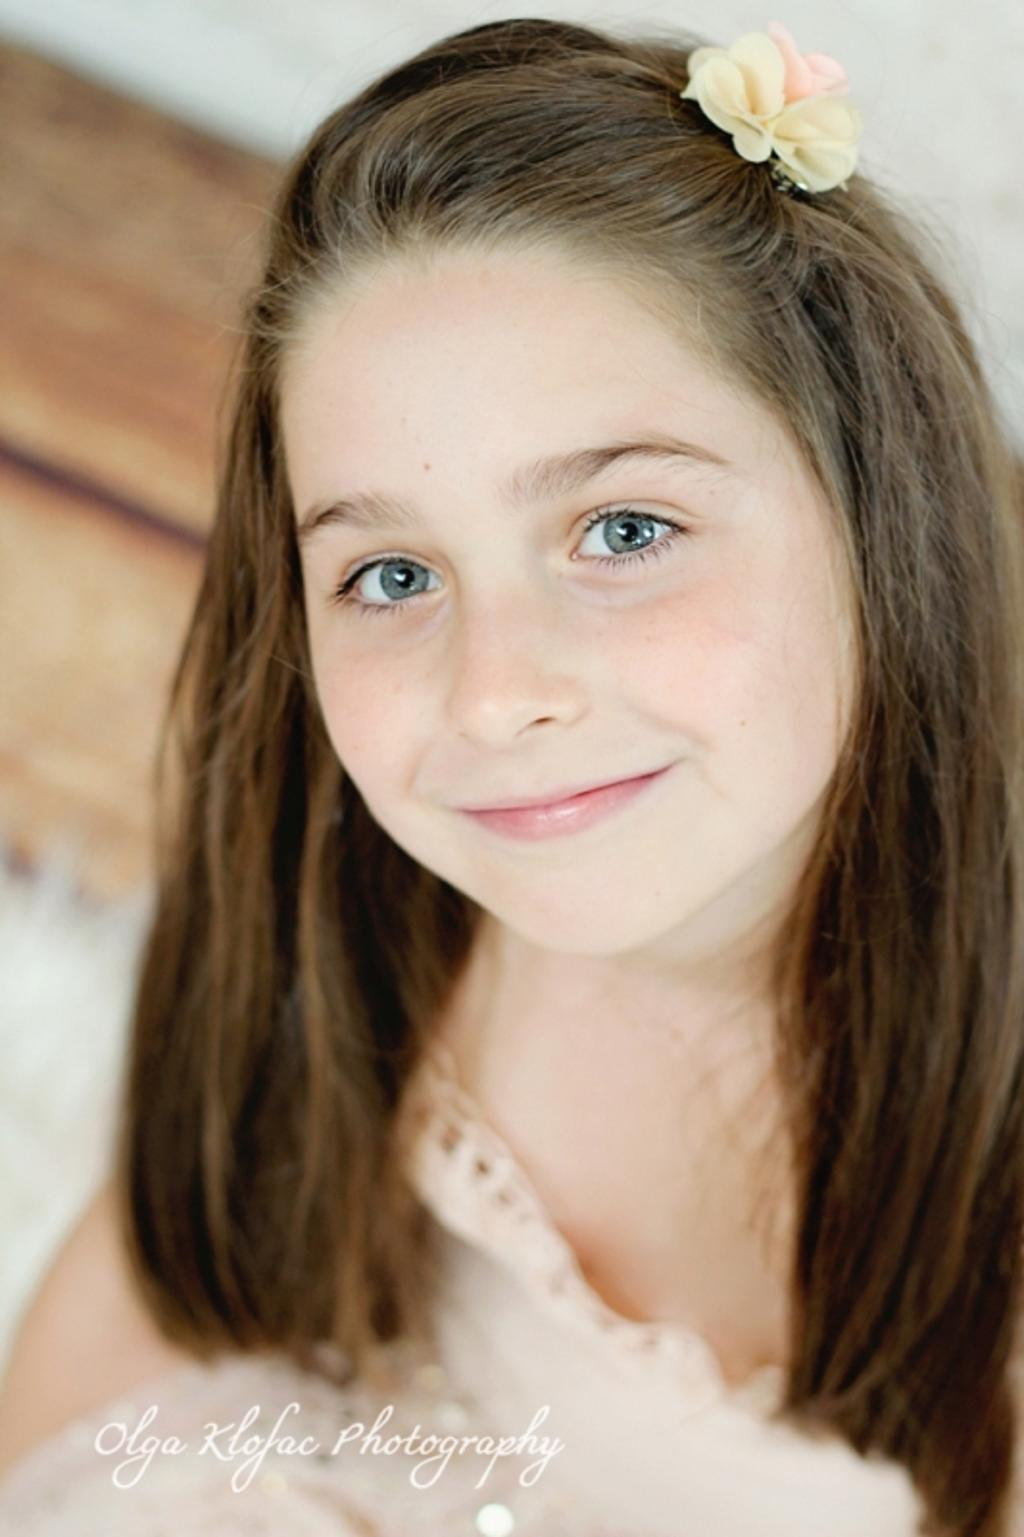face: (273, 258, 850, 967)
